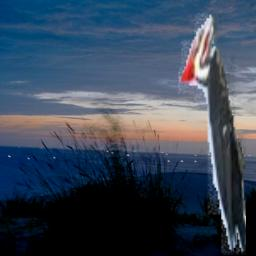Woodpecker: (178, 0, 246, 256)
